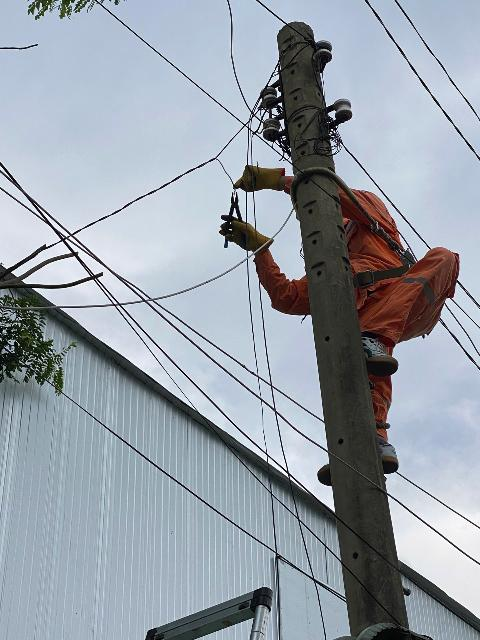gloves: (191, 207, 278, 262), (227, 157, 294, 194)
harness: (328, 258, 427, 291)
shoes: (296, 436, 408, 484), (341, 330, 404, 388)
